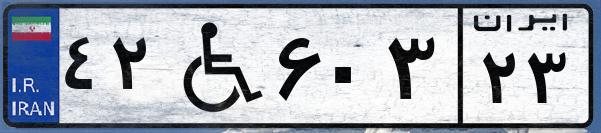0: (330, 28, 385, 110)
2: (475, 38, 525, 113), (110, 28, 158, 98)
3: (385, 28, 445, 110), (525, 38, 570, 115)
4: (57, 26, 110, 100)
6: (270, 28, 330, 110)
ژ (معلولین و جانبازان): (158, 12, 270, 120)
